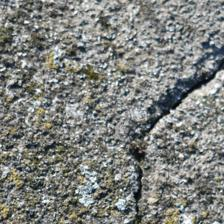Crack: (61, 30, 162, 191)
